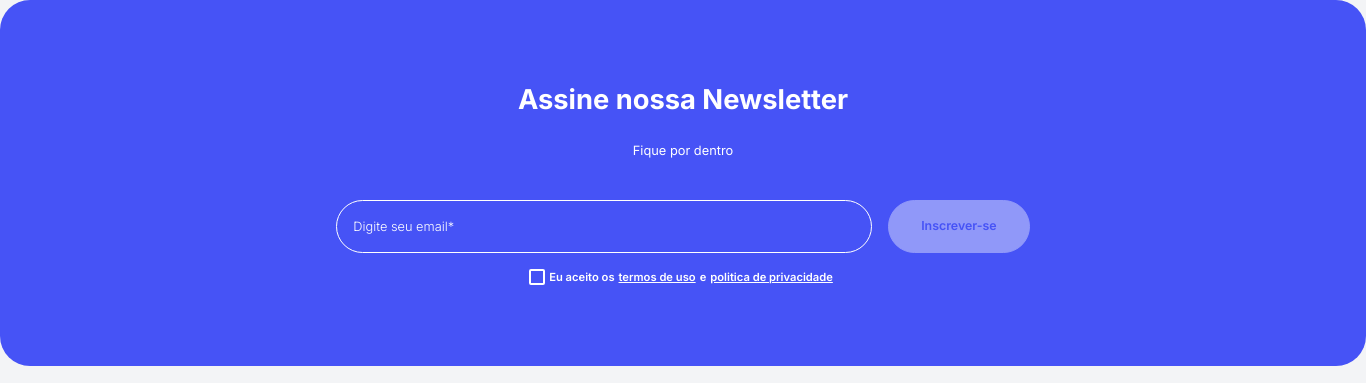
Scenario: Newsletter form › shows request error label for non-409 error and resets status on input change
The image size is (1366, 383).
Type "fail@email.com" into the field with placeholder "Digite seu email*".
click(604, 227); type("fail@email.com")  # box x1=336 y1=200 x2=872 y2=253
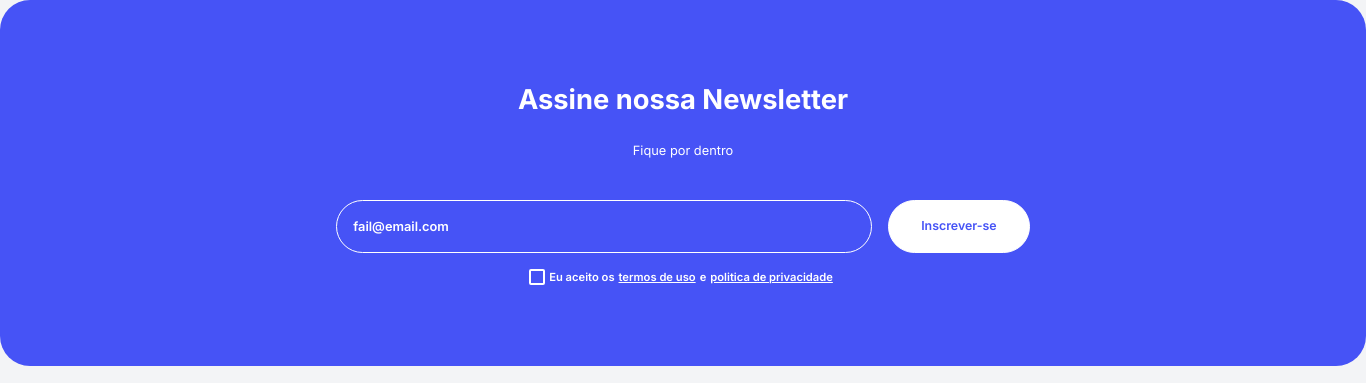
Click the checkbox.
click(537, 277)  # box x1=529 y1=269 x2=545 y2=285
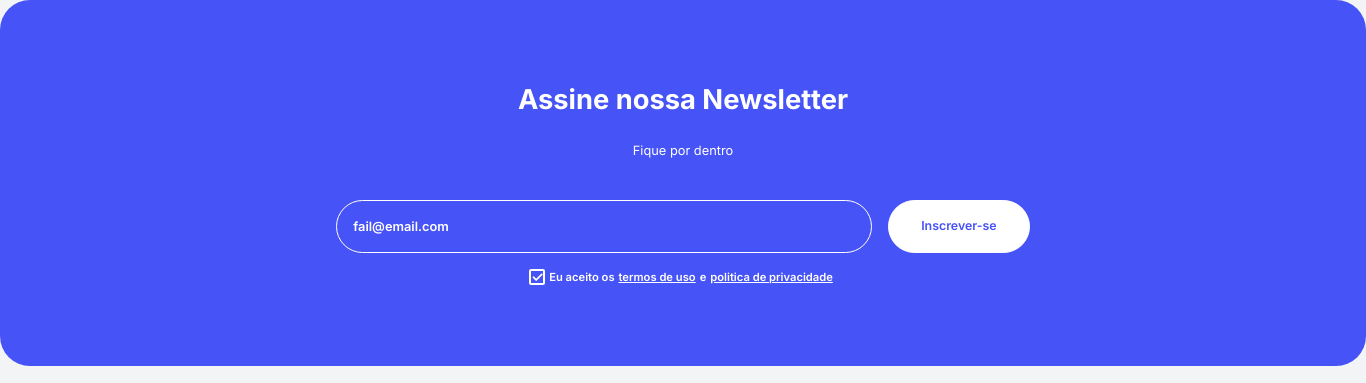
Click the button "Inscrever-se".
click(959, 226)  # box x1=888 y1=200 x2=1030 y2=253
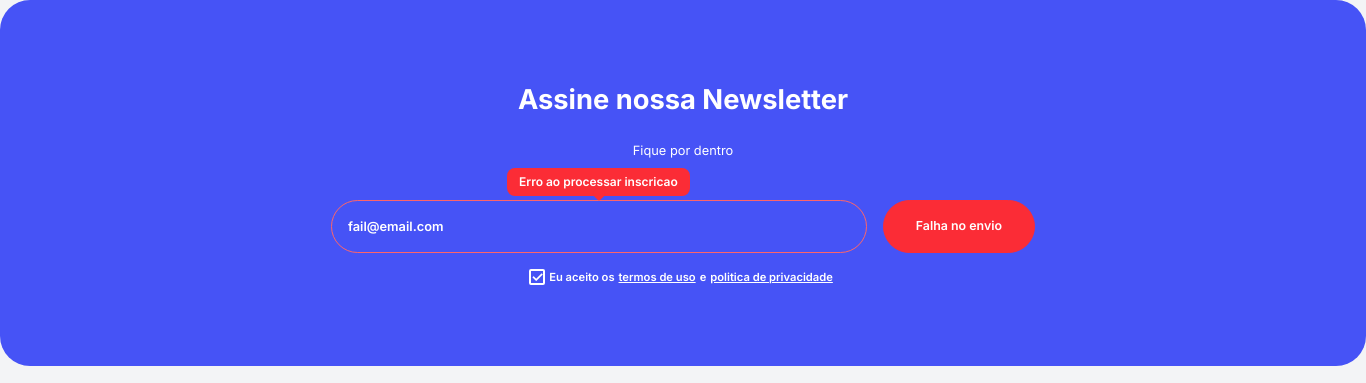
Expected: the button "Falha no envio" has class "bg-red-500", x1=883 y1=200 x2=1035 y2=253
Type "a" into the field with placeholder "Digite seu email*".
click(599, 227); type("a")  # box x1=331 y1=200 x2=867 y2=253
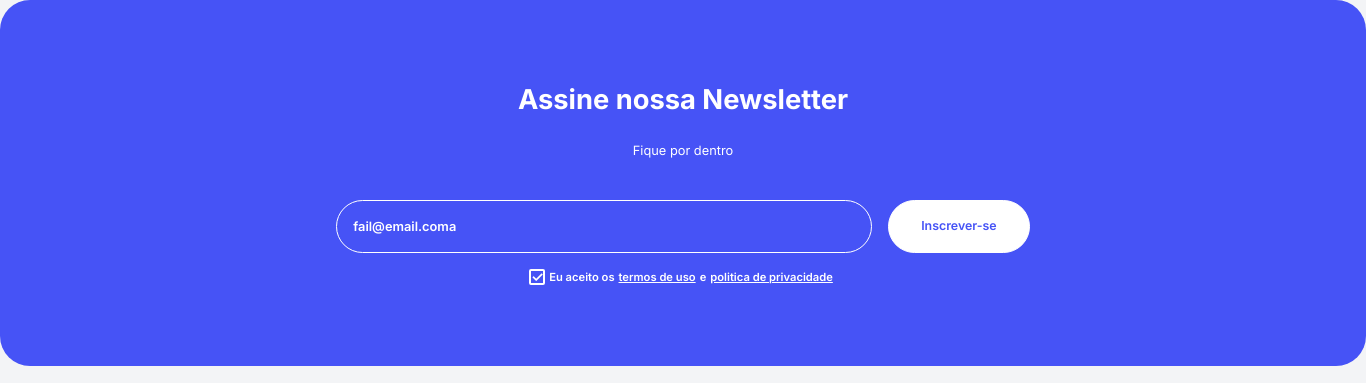
Expected: the button "Inscrever-se" is shown, x1=888 y1=200 x2=1030 y2=253
